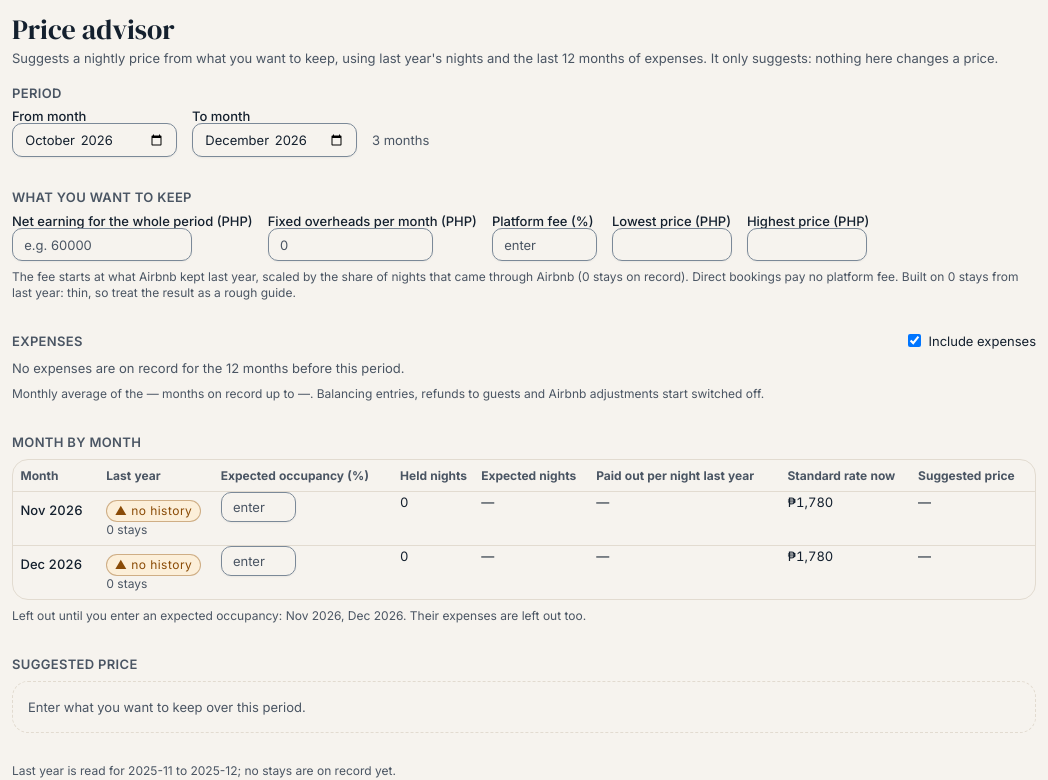
Test: with no history nothing is invented: months say so and no price is suggested
Expected: the text "no history" is shown 2 times, [106,500,201,522]; [106,554,201,576]
In the field labelled "Net earning for the whole period (PHP)": (102, 244) [12,228,192,261], type "30000"
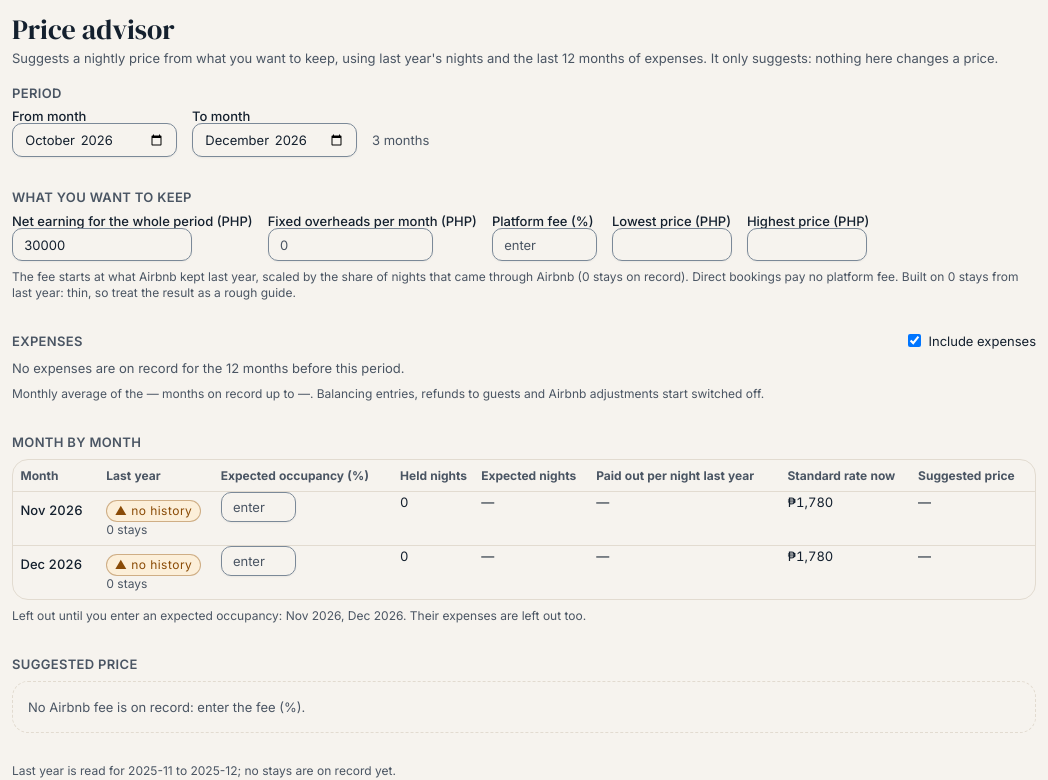
Expected: the text "No Airbnb fee is on record: enter the fee (%)." is shown, [12,681,1036,733]
In the field labelled "Platform fee (%)": (544, 244) [492,228,597,261], type "15"
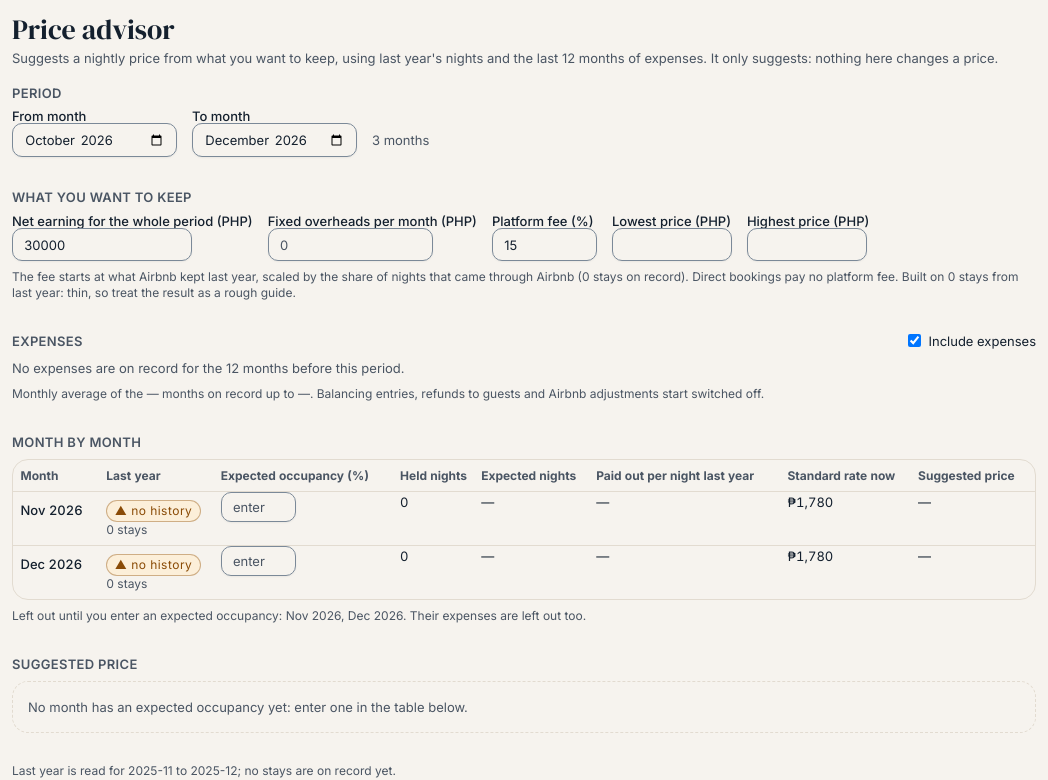
Expected: the text "No month has an expected occupancy yet" is shown, [28,699,468,715]
